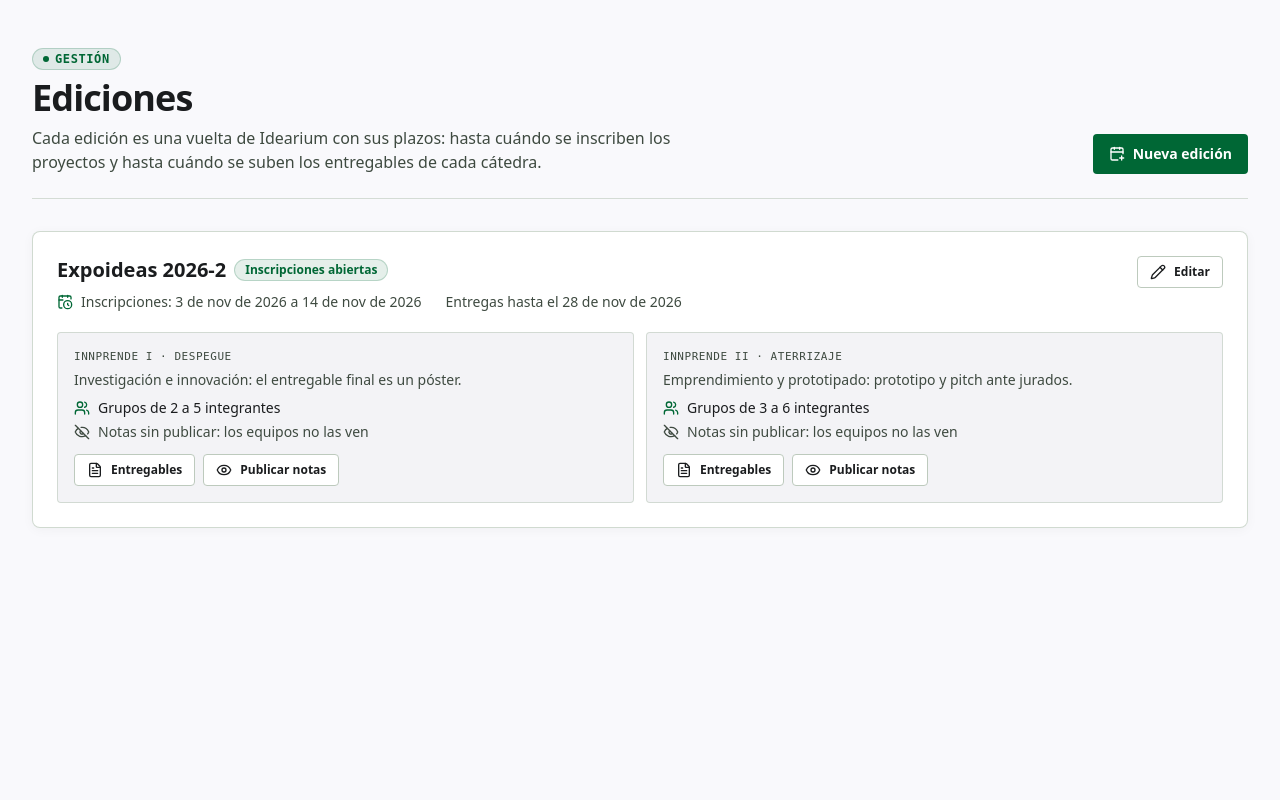
Test: Alta y edición › al editar parte de los datos de la edición
The width and height of the screenshot is (1280, 800).
Step 1. Click the button "Editar" → (1180,272), box [1137,256,1223,288]
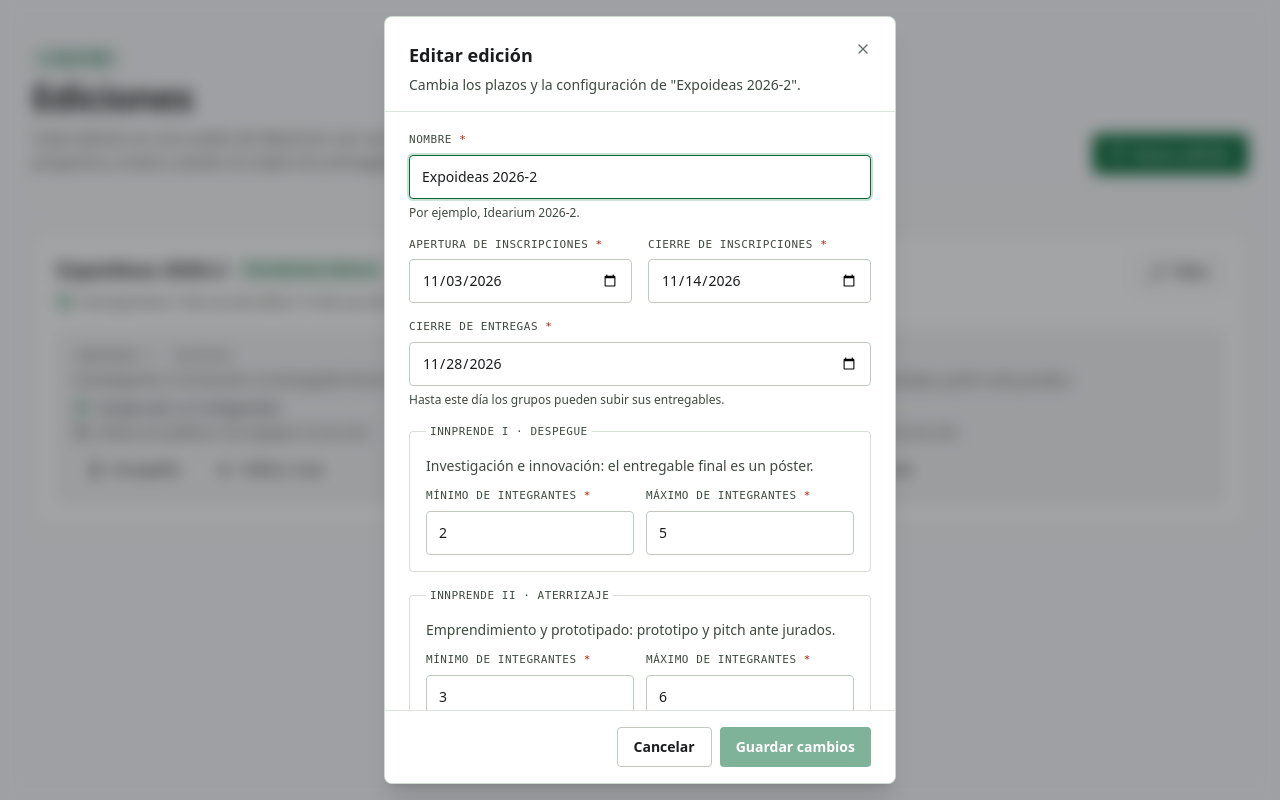
Expected: the field labelled "Nombre *" holds "Expoideas 2026-2", [409,154,871,198]
Expected: the date field labelled "Cierre de entregas *" holds "2026-11-28", [409,342,871,386]
Expected: the 1st number field labelled "Máximo de integrantes *" holds "5", [646,510,854,554]
